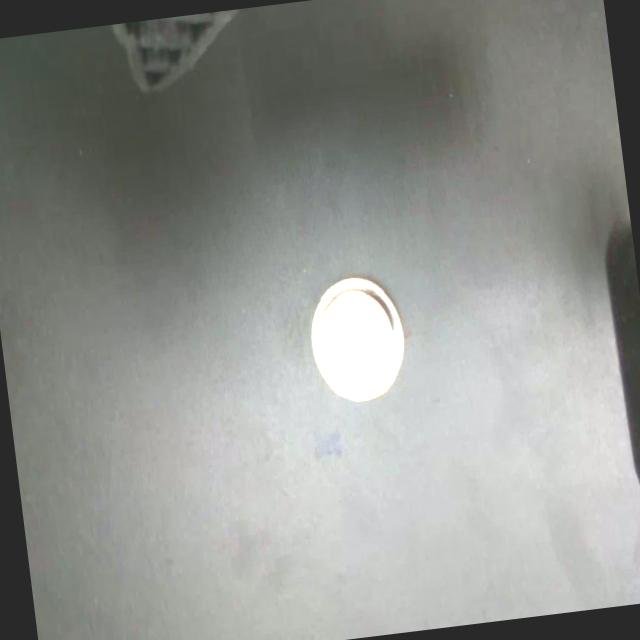sensor: (302, 271, 412, 408)
